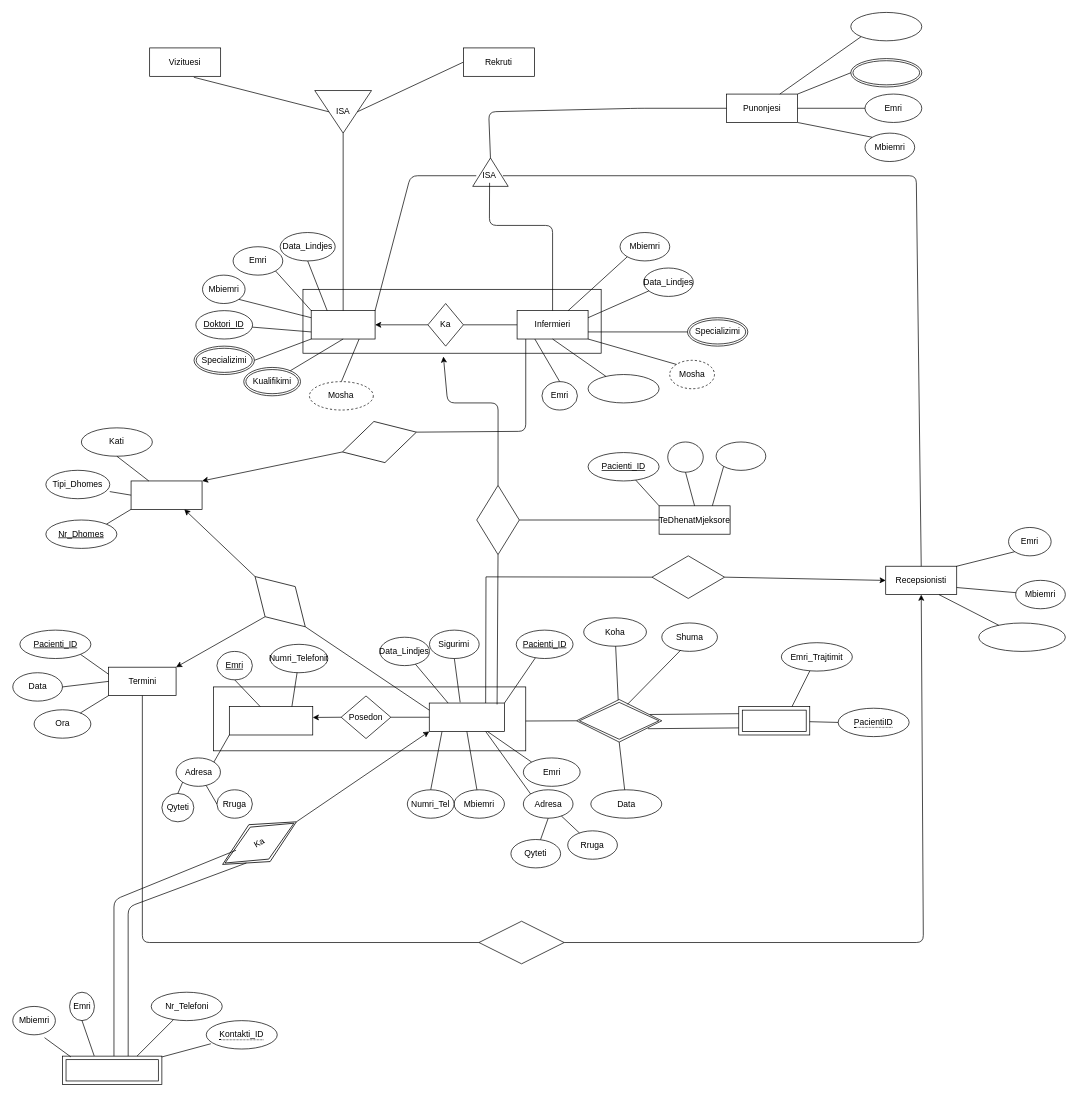
This 1078x1097 diagram has some shape labels left out. The shapes that lost their labels are listed below. From the top down, each one's centre as x and y in pixels, then its label:
At point 886,26: "Punonjesi_ID".
At point 886,72: "Numri_Kontakt".
At point 342,324: "Doktori".
At point 623,388: "Infermieri_ID".
At point 379,442: "Drejton".
At point 685,456: "Ilaçi".
At point 740,455: "Diagnoza".
At point 166,494: "Dhoma".
At point 497,520: "Trajtohet".
At point 688,576: "Regjistron".
At point 279,601: "Caktohet".
At point 1021,636: "Recepsionisti_ID".
At point 271,720: "Kompania_Sigurimit".
At point 466,716: "Pacienti".
At point 619,720: "Faturohet".
At point 774,720: "Trajtimi".
At point 521,942: "Cakton".
At point 112,1070: "KontaktiEmergjent".
